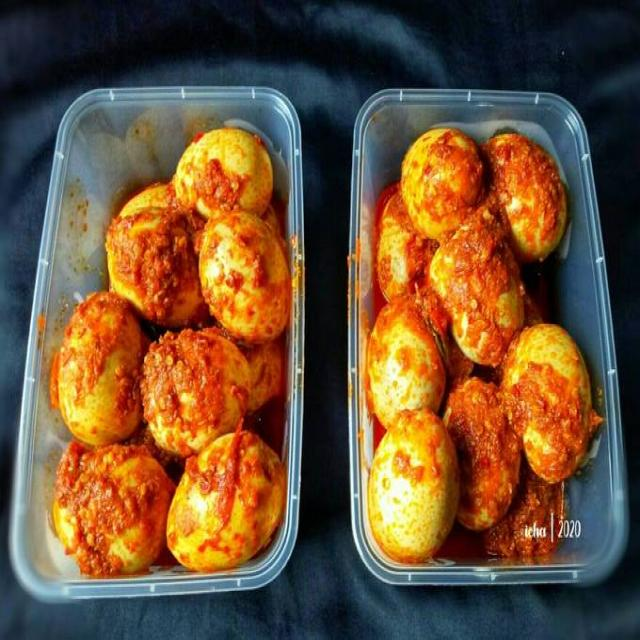telur balado: (52, 124, 290, 574), (365, 122, 593, 562)
